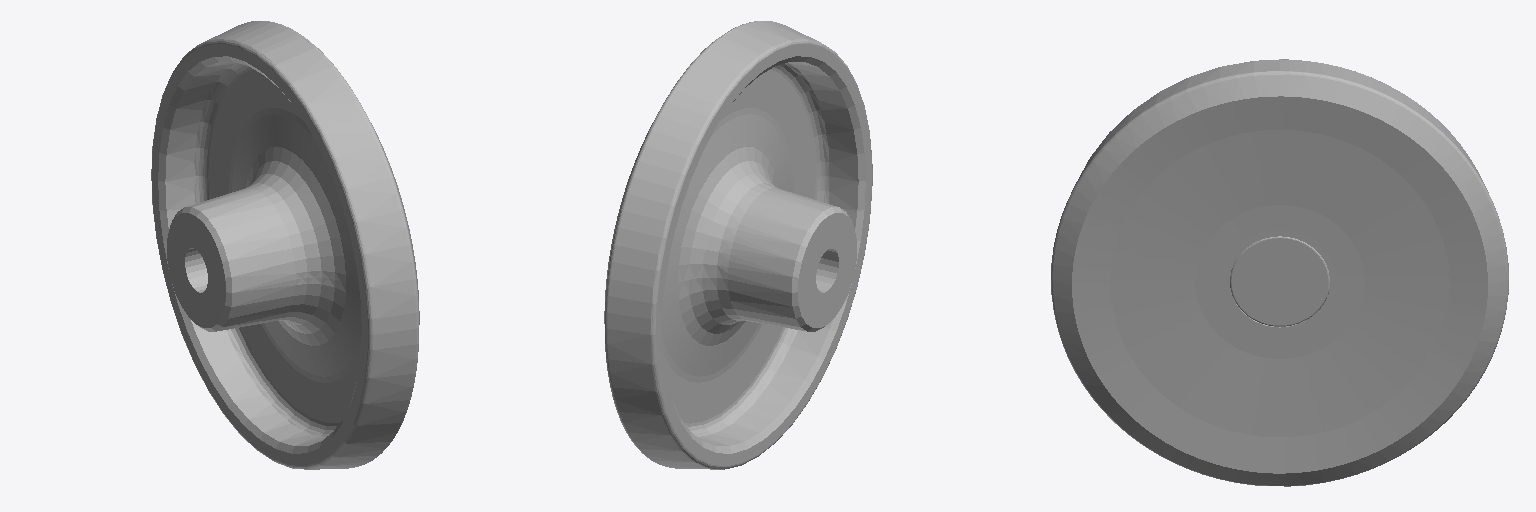
3 renders of one model, left to right at view 1: azimuth 30°, elevation 25°; view 2: azimuth 150°, elevation 25°; view 3: azimuth 270°, elevation 25°, orthographic.
Visible parts, largest first — view 1: gn_923-100-b10-a-sr_1; view 2: gn_923-100-b10-a-sr_1; view 3: gn_923-100-b10-a-sr_1.
Part boxes in pixels (x1,y1,x2,y2): gn_923-100-b10-a-sr_1: (151, 21, 419, 469); gn_923-100-b10-a-sr_1: (604, 21, 872, 469); gn_923-100-b10-a-sr_1: (1051, 59, 1508, 486).
Size of the model in its own units: 30 by 99.97 by 100.